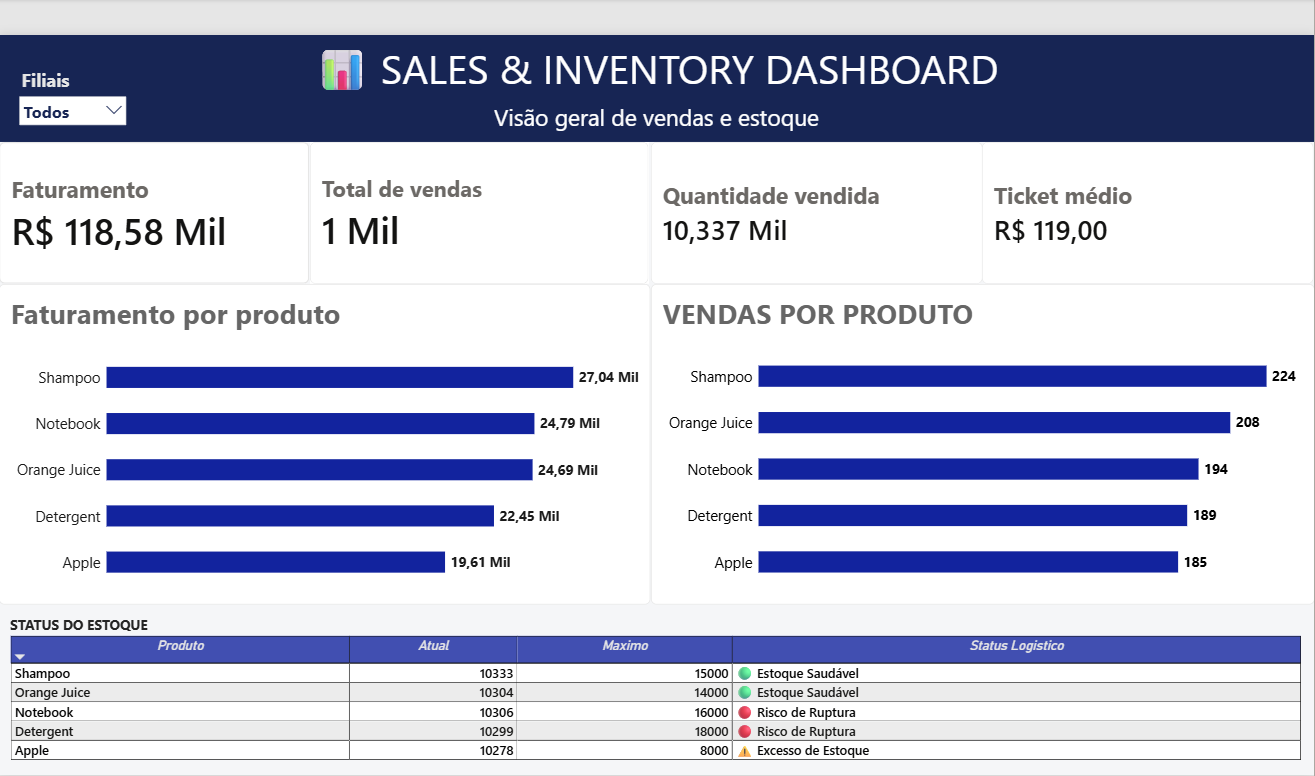

The page's visual inventory and layout, read from the dashboard file:
{"tool":"powerbi","page":{"name":"Página 1","canvas":[1920,1080],"ordinal":0},"visuals":[{"type":"cardVisual","fields":{"Data":["CountNonNull(sales.sale_id)"]},"box":[453.7,156.1,494.6,207.2],"z":1},{"type":"cardVisual","fields":{"Data":["Sum(sales.total_price)"]},"box":[0,156.1,453.7,207.2],"z":2},{"type":"cardVisual","fields":{"Data":["Avg(sales.Ticket Médio)"]},"box":[1435.6,156.1,484.4,207.2],"z":3},{"type":"cardVisual","fields":{"Data":["Sum(sales.quantity)"]},"box":[951.2,156.1,484.4,207.2],"z":4},{"type":"shape","box":[0,0,1920,94.8],"z":5},{"type":"shape","box":[0,80.2,1920,75.9],"z":6},{"type":"slicer","fields":{"Values":["sales.branch"]},"box":[24.8,46.7,166.3,109.4],"z":7},{"type":"clusteredBarChart","title":"Faturamento por produto","fields":{"Category":["sales.product_name"],"Y":["Sum(sales.total_price)"]},"box":[0,363.3,951.2,468.3],"z":8},{"type":"clusteredBarChart","title":"VENDAS POR PRODUTO","fields":{"Category":["sales.product_name"],"Y":["CountNonNull(sales.sale_id)"]},"box":[951.2,363.3,968.8,468.3],"z":9},{"type":"tableEx","title":"STATUS DO ESTOQUE","fields":{"Values":["sales.product_name","estoque (2).estoque_atual","estoque (2).estoque_maximo","estoque (2).Status Logistico"]},"box":[0,831.6,1920,248],"z":10}]}

Visuals, with their boxes on the page's 1920x1080 design canvas (x1, y1, x2, y2). These are canvas units, not pixel positions in the 1315x776 screenshot, which may show the page scaled, cropped or inside an application window:
cardVisual - CountNonNull(sales.sale_id): {"left": 454, "top": 156, "right": 948, "bottom": 363}
cardVisual - Sum(sales.total_price): {"left": 0, "top": 156, "right": 454, "bottom": 363}
cardVisual - Avg(sales.Ticket Médio): {"left": 1436, "top": 156, "right": 1920, "bottom": 363}
cardVisual - Sum(sales.quantity): {"left": 951, "top": 156, "right": 1436, "bottom": 363}
shape: {"left": 0, "top": 0, "right": 1920, "bottom": 95}
shape: {"left": 0, "top": 80, "right": 1920, "bottom": 156}
slicer - sales.branch: {"left": 25, "top": 47, "right": 191, "bottom": 156}
"Faturamento por produto" clusteredBarChart: {"left": 0, "top": 363, "right": 951, "bottom": 832}
"VENDAS POR PRODUTO" clusteredBarChart: {"left": 951, "top": 363, "right": 1920, "bottom": 832}
"STATUS DO ESTOQUE" tableEx: {"left": 0, "top": 832, "right": 1920, "bottom": 1080}
